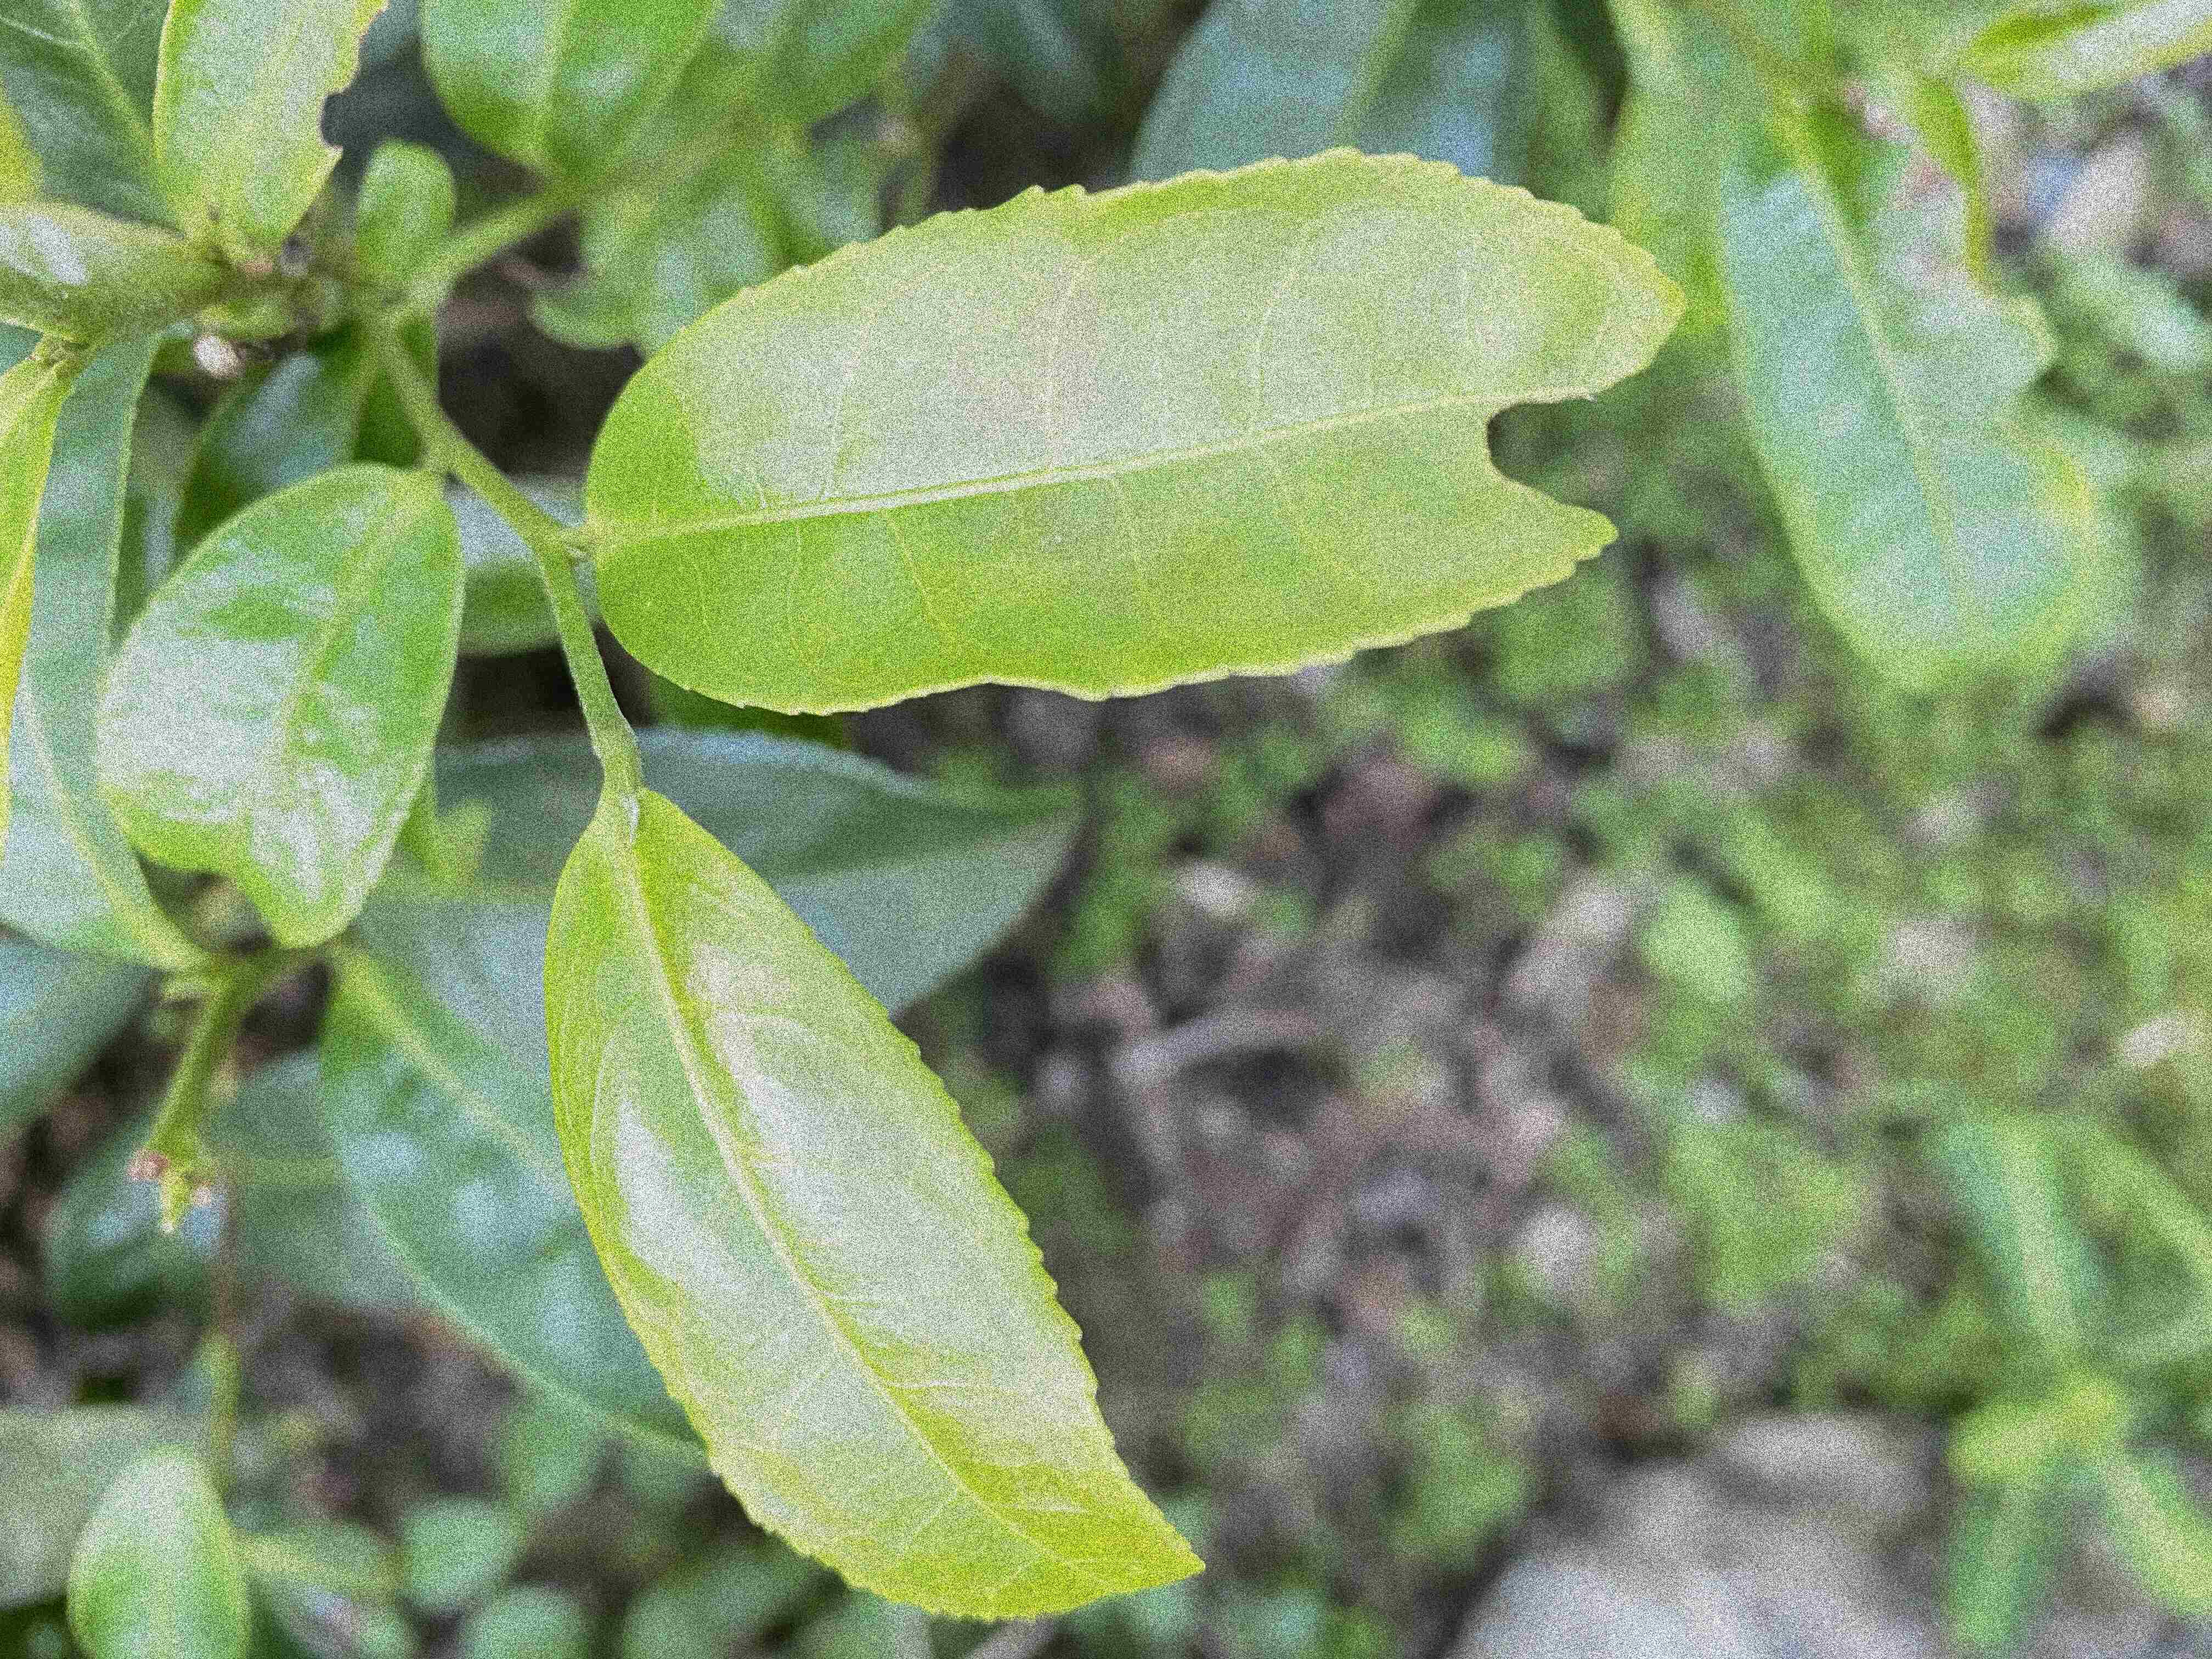chihuo_low: (583, 152, 1689, 718)
healthy: (542, 784, 1207, 1629), (89, 464, 470, 951)
tanju_high: (1709, 64, 2092, 694)
